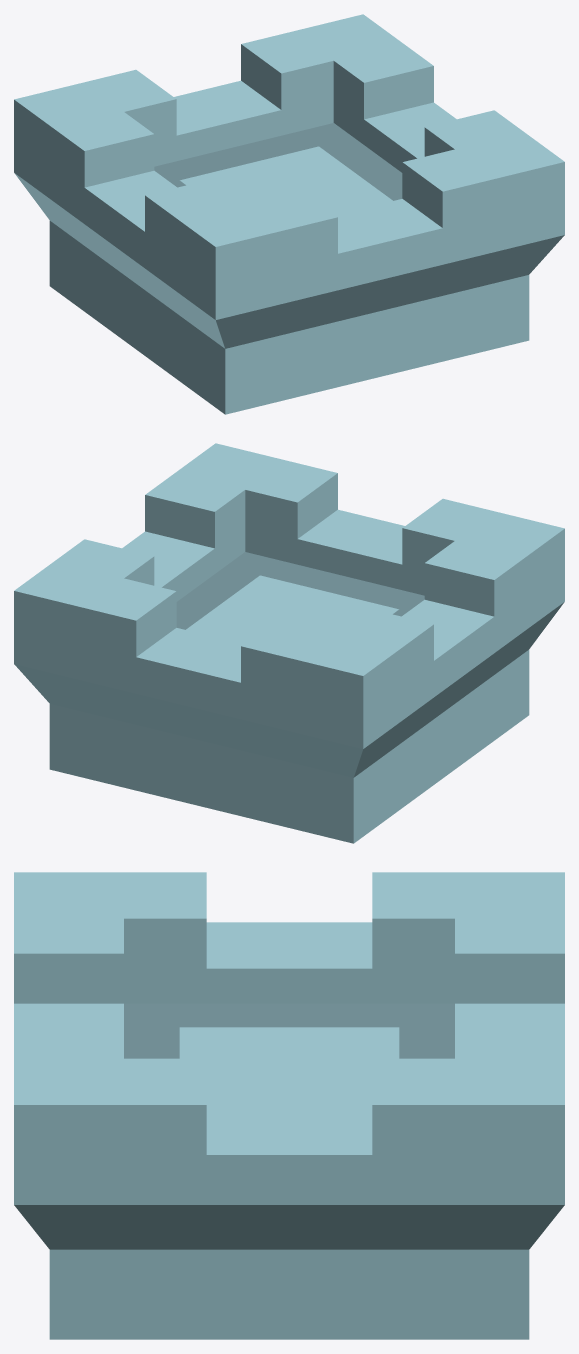
Rendered from towerSquare_topC.dae.
3 views of the same model, one above another, from view 1: azimuth 30°, elevation 25°; view 2: azimuth 150°, elevation 25°; view 3: azimuth 270°, elevation 25° (orthographic). The views are drawn at different scales.
Visible parts, largest first — view 1: towerSquare_topC; view 2: towerSquare_topC; view 3: towerSquare_topC.
Part boxes in pixels (x1,y1,x2,y2): towerSquare_topC: (14, 14, 564, 414); towerSquare_topC: (14, 443, 564, 843); towerSquare_topC: (14, 872, 564, 1339).
Size of the model in its own units: 1 by 0.5 by 1.
